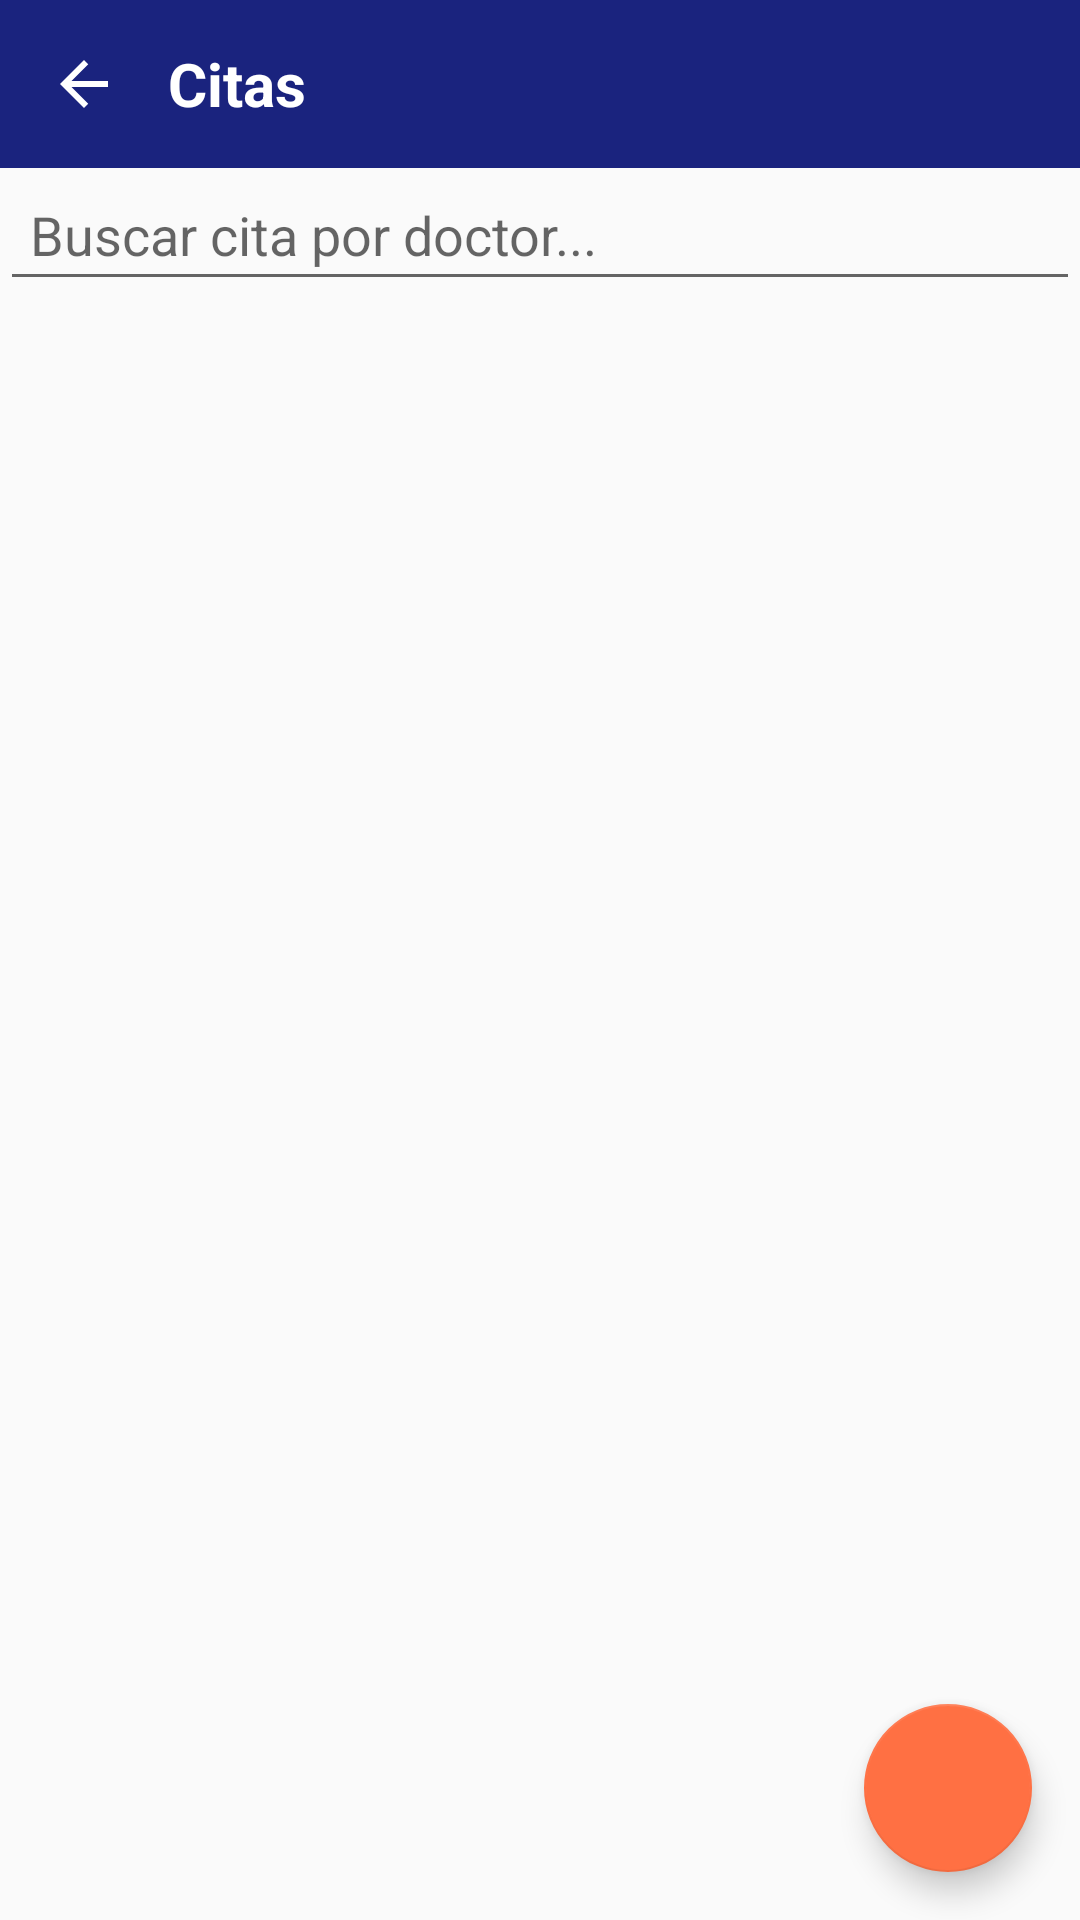

Icon click points for this 1080×1920 phone screenshot, format [x,y]:
back arrow: [84,84]
